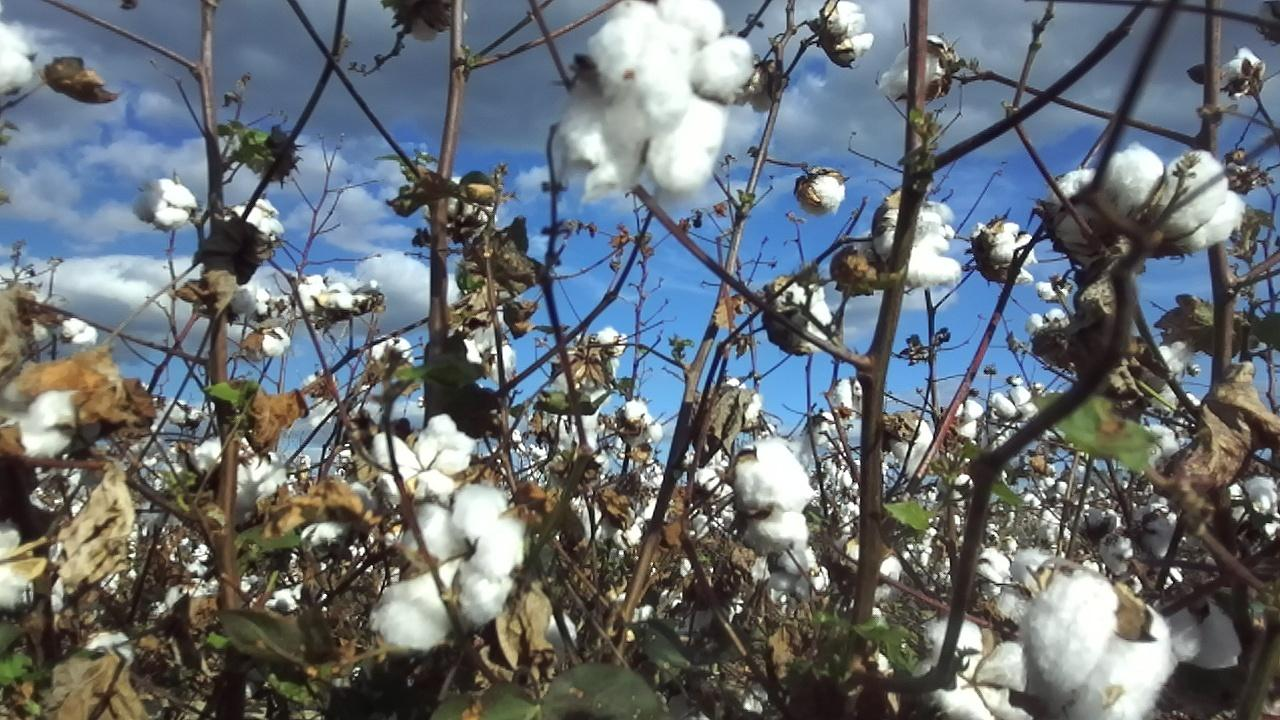cotton_ready: (607, 0, 750, 197), (376, 484, 525, 651), (559, 16, 689, 204), (1024, 570, 1169, 720), (1105, 143, 1249, 249), (919, 622, 1025, 720), (730, 439, 810, 553), (375, 414, 475, 503), (193, 441, 290, 514), (882, 207, 962, 292), (1161, 594, 1244, 670), (0, 370, 74, 453), (875, 34, 949, 99), (1049, 167, 1102, 255), (977, 549, 1050, 611), (978, 219, 1039, 285), (777, 281, 829, 354), (818, 0, 872, 59), (132, 175, 193, 225), (0, 524, 30, 613), (231, 197, 284, 242)
